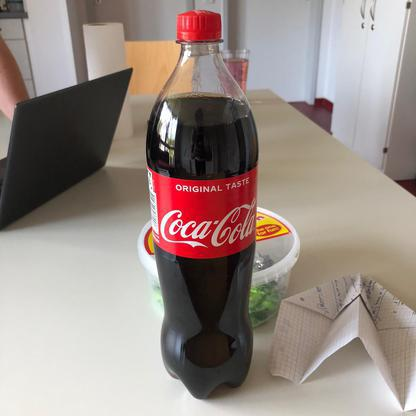coca-cola: (144, 9, 261, 403)
